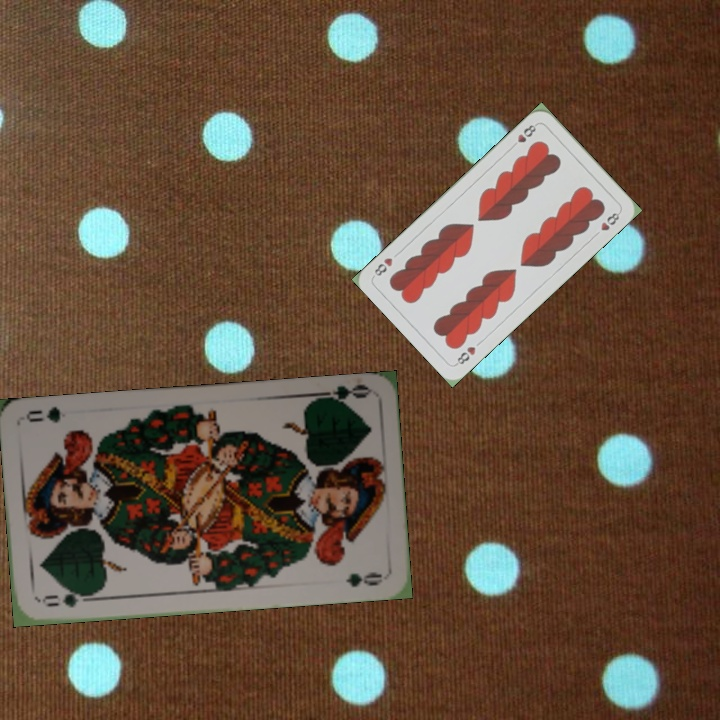GO: (312, 380, 371, 408), (37, 587, 96, 610)
H8: (507, 120, 540, 151), (452, 342, 478, 368)
